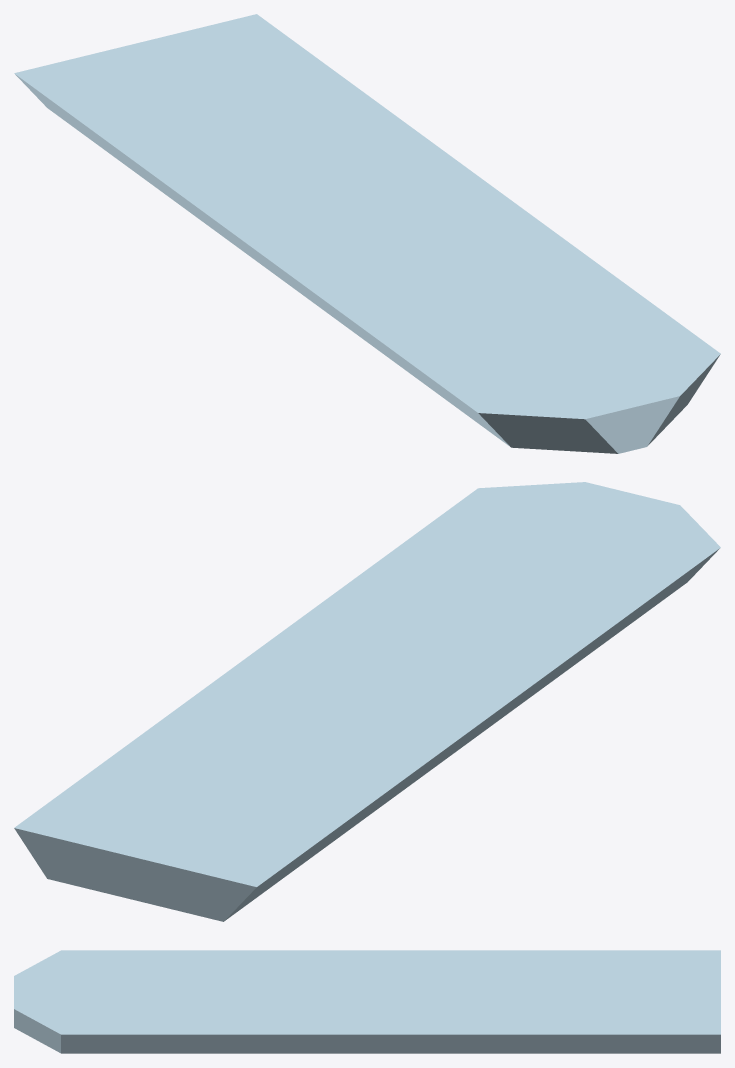
Rendered from STAM - M0-1.gltf.
The picture shows the model from 3 angles, top to bottom: view 1: azimuth 30°, elevation 25°; view 2: azimuth 150°, elevation 25°; view 3: azimuth 270°, elevation 25°; orthographic projection. The views are drawn at different scales.
Parts seen in each view (by area): view 1: M0-1; view 2: M0-1; view 3: M0-1.
Part boxes in pixels (x1,y1,x2,y2): M0-1: (14,14,720,453); M0-1: (14,482,720,921); M0-1: (14,950,720,1053).
Bounding box in the file's own units: 0.00423 × 0.000713 × 0.015.
